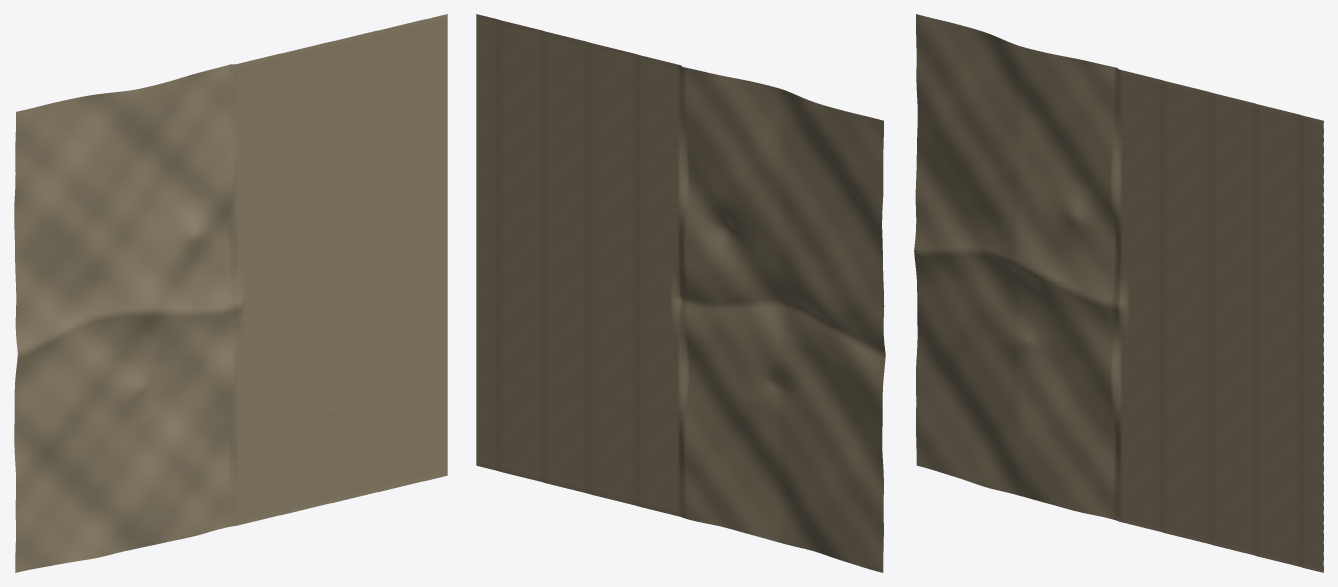
The model's file is terrain_world.glb.
3 views of the same model, side by side, from view 1: azimuth 30°, elevation 25°; view 2: azimuth 150°, elevation 25°; view 3: azimuth 330°, elevation 25° (orthographic). The views are drawn at different scales.
Visible parts, largest first — view 1: Terrain_Production_World; view 2: Terrain_Production_World; view 3: Terrain_Production_World.
Boxes of the visible parts, x1,y1,x2,y2 form: Terrain_Production_World: (14, 14, 447, 572); Terrain_Production_World: (476, 14, 885, 572); Terrain_Production_World: (914, 14, 1323, 572).
Bounding box in the file's own units: 250 × 260 × 11.78.
